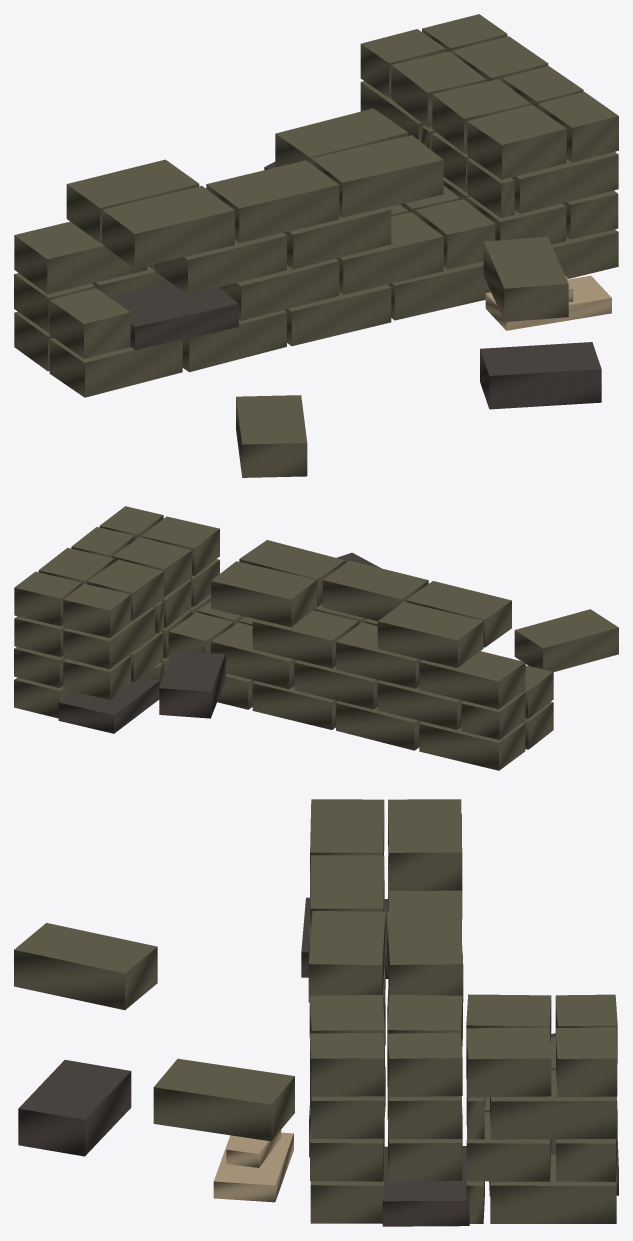
The model's file is SM_SacosRemateEspejo_v0_Recto_e1_Danado_LOD0.fbx.
3 views of the same model, one above another, from view 1: azimuth 30°, elevation 25°; view 2: azimuth 150°, elevation 25°; view 3: azimuth 270°, elevation 25° (orthographic). The views are drawn at different scales.
Parts seen in each view (by area): view 1: SM_sacos_piezas_v21_LOD0; view 2: SM_sacos_piezas_v21_LOD0; view 3: SM_sacos_piezas_v21_LOD0.
Part boxes in pixels (x1=…): SM_sacos_piezas_v21_LOD0: x1=14, y1=14, x2=618, y2=477; SM_sacos_piezas_v21_LOD0: x1=14, y1=506, x2=618, y2=770; SM_sacos_piezas_v21_LOD0: x1=14, y1=799, x2=618, y2=1226.
Bounding box in the file's own units: 4.38 × 1.18 × 3.88.
